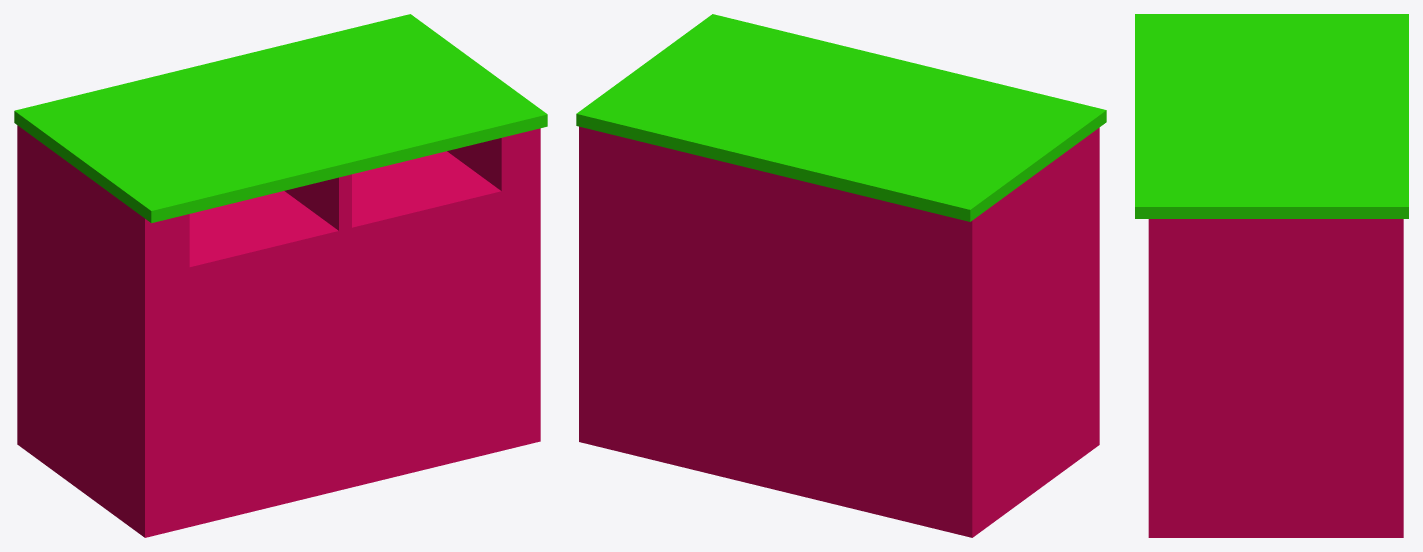
The model's file is Kitchen_Cupboard_10_Lod0.fbx.
3 views of the same model, side by side, from view 1: azimuth 30°, elevation 25°; view 2: azimuth 150°, elevation 25°; view 3: azimuth 270°, elevation 25° (orthographic).
Visible parts, largest first — view 1: Kitchen_Cupboard_10_Lod0; view 2: Kitchen_Cupboard_10_Lod0; view 3: Kitchen_Cupboard_10_Lod0.
Boxes of the visible parts, x1,y1,x2,y2 form: Kitchen_Cupboard_10_Lod0: [14, 14, 547, 537]; Kitchen_Cupboard_10_Lod0: [576, 14, 1106, 537]; Kitchen_Cupboard_10_Lod0: [1135, 14, 1408, 537].
Size of the model in its own units: 116 by 93.09 by 69.72.
